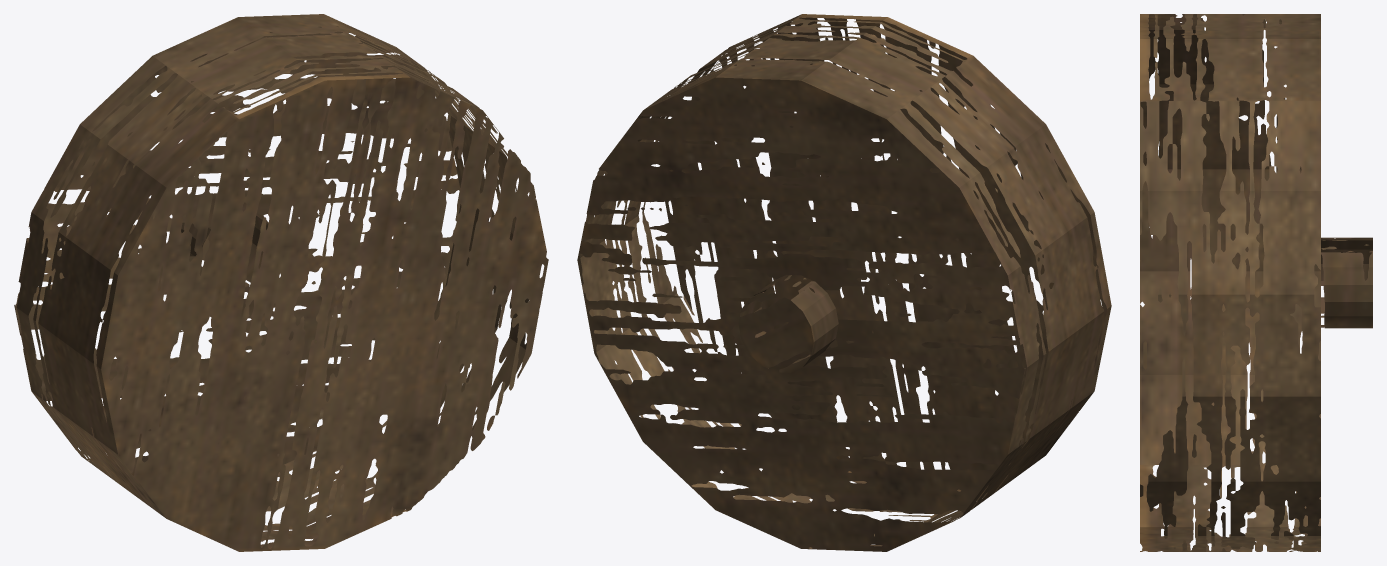
File: Wheel3.obj
The picture shows the model from 3 angles, left to right: view 1: azimuth 30°, elevation 25°; view 2: azimuth 150°, elevation 25°; view 3: azimuth 270°, elevation 25°; orthographic projection. The views are drawn at different scales.
Parts seen in each view (by area): view 1: Wheel3; view 2: Wheel3; view 3: Wheel3.
Boxes of the visible parts, x1,y1,x2,y2 form: Wheel3: (14, 14, 548, 551); Wheel3: (577, 14, 1111, 551); Wheel3: (1140, 14, 1372, 551).
Bounding box in the file's own units: 3.45 × 3.45 × 1.49.
